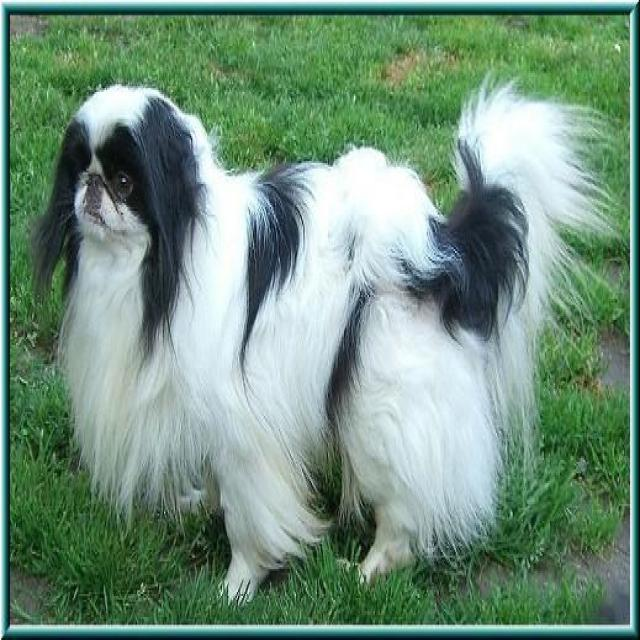husky: (33, 69, 623, 605)
